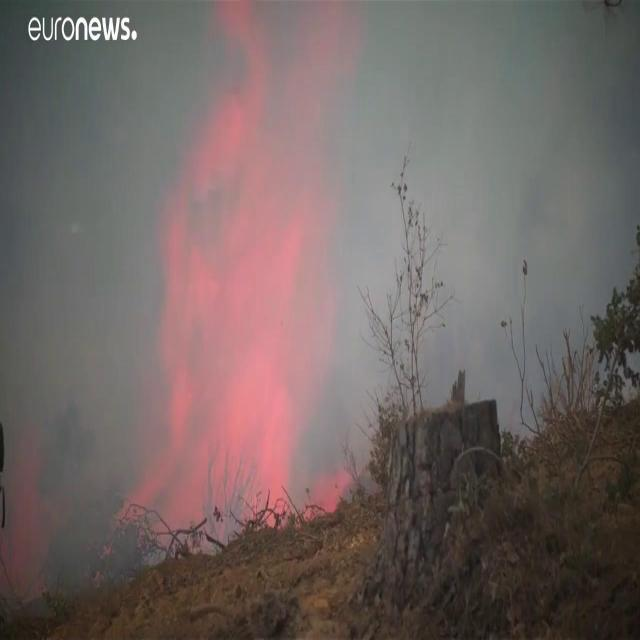Fire: (123, 12, 351, 556)
